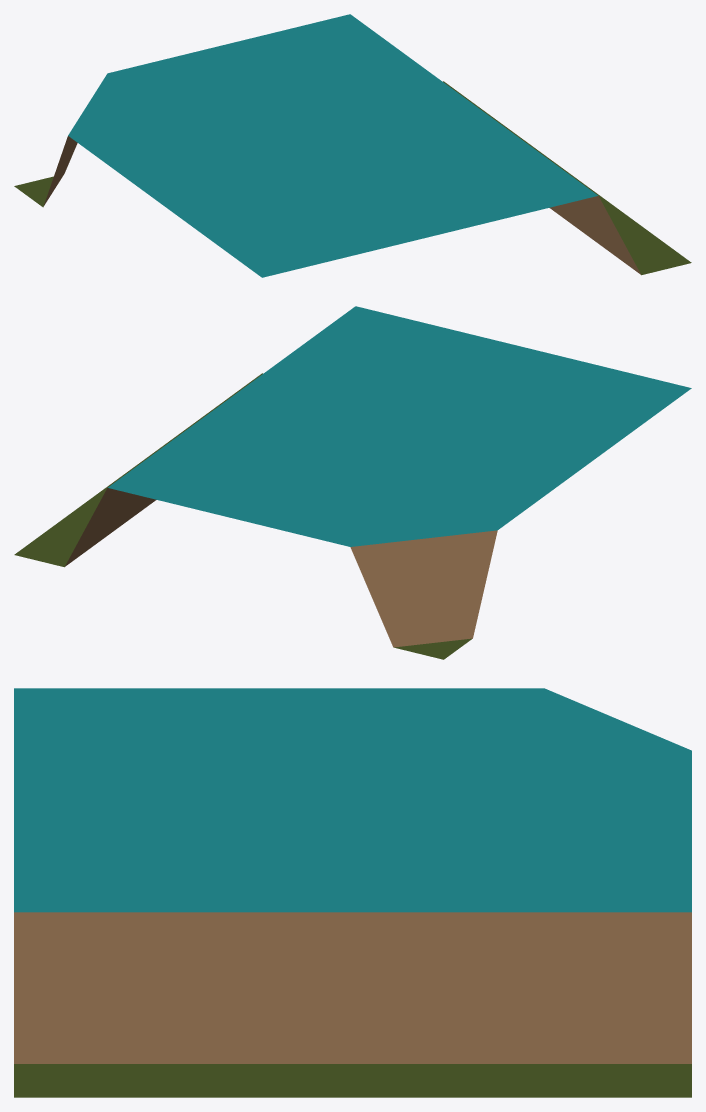
The model's file is TB_Env_Mountain_K.FBX.
The picture shows the model from 3 angles, top to bottom: view 1: azimuth 30°, elevation 25°; view 2: azimuth 150°, elevation 25°; view 3: azimuth 270°, elevation 25°; orthographic projection. The views are drawn at different scales.
Visible parts, largest first — view 1: TB_Env_Mountain_K; view 2: TB_Env_Mountain_K; view 3: TB_Env_Mountain_K.
Boxes of the visible parts, box(x1,y1,x2,y2) form: TB_Env_Mountain_K: box(14, 14, 691, 277); TB_Env_Mountain_K: box(14, 306, 691, 659); TB_Env_Mountain_K: box(14, 688, 691, 1097).
Bounding box in the file's own units: 10 × 2 × 10.
1 material, 1 textured.
